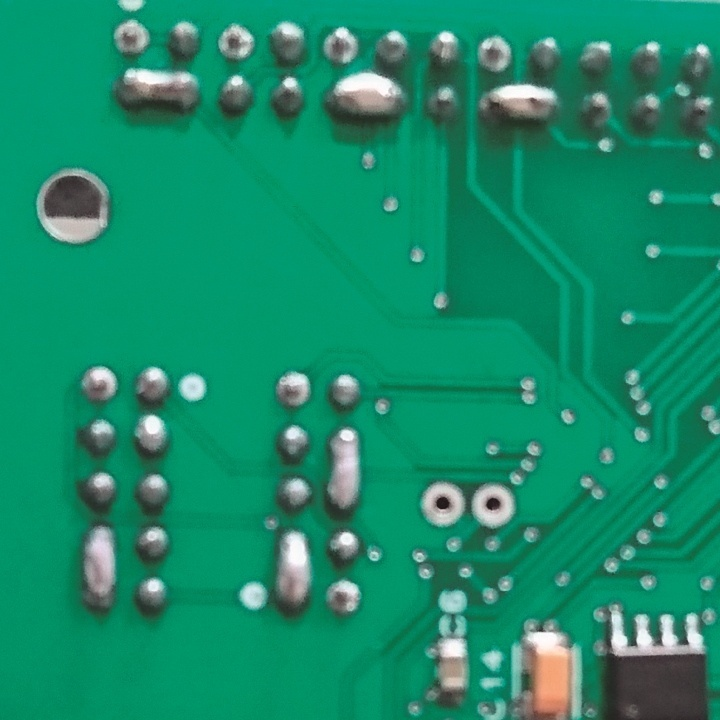F: (470, 476, 516, 532), (419, 478, 466, 532), (110, 17, 153, 56), (216, 21, 256, 62), (323, 23, 360, 66), (76, 366, 119, 403), (324, 575, 360, 618), (275, 368, 311, 410), (477, 35, 513, 73)
P: (326, 70, 406, 126), (117, 66, 199, 119), (479, 82, 559, 129), (81, 526, 121, 610), (327, 428, 363, 515), (277, 530, 310, 612)
